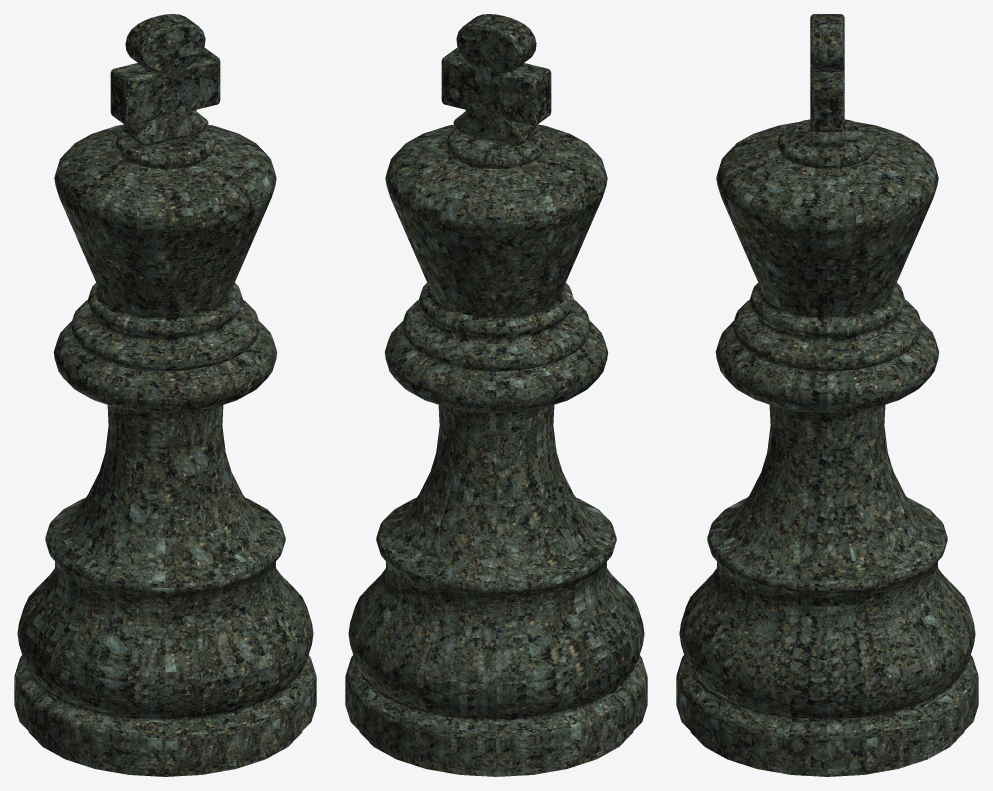
The model's file is black_king.fbx.
3 renders of one model, left to right at view 1: azimuth 30°, elevation 25°; view 2: azimuth 150°, elevation 25°; view 3: azimuth 270°, elevation 25°, orthographic.
Parts seen in each view (by area): view 1: Model; view 2: Model; view 3: Model.
Boxes of the visible parts, bbox=[...] form: Model: bbox=[14, 14, 316, 776]; Model: bbox=[345, 14, 647, 776]; Model: bbox=[676, 14, 978, 776].
Bounding box in the file's own units: 14.89 × 37.85 × 14.89.
1 material, 1 textured.
